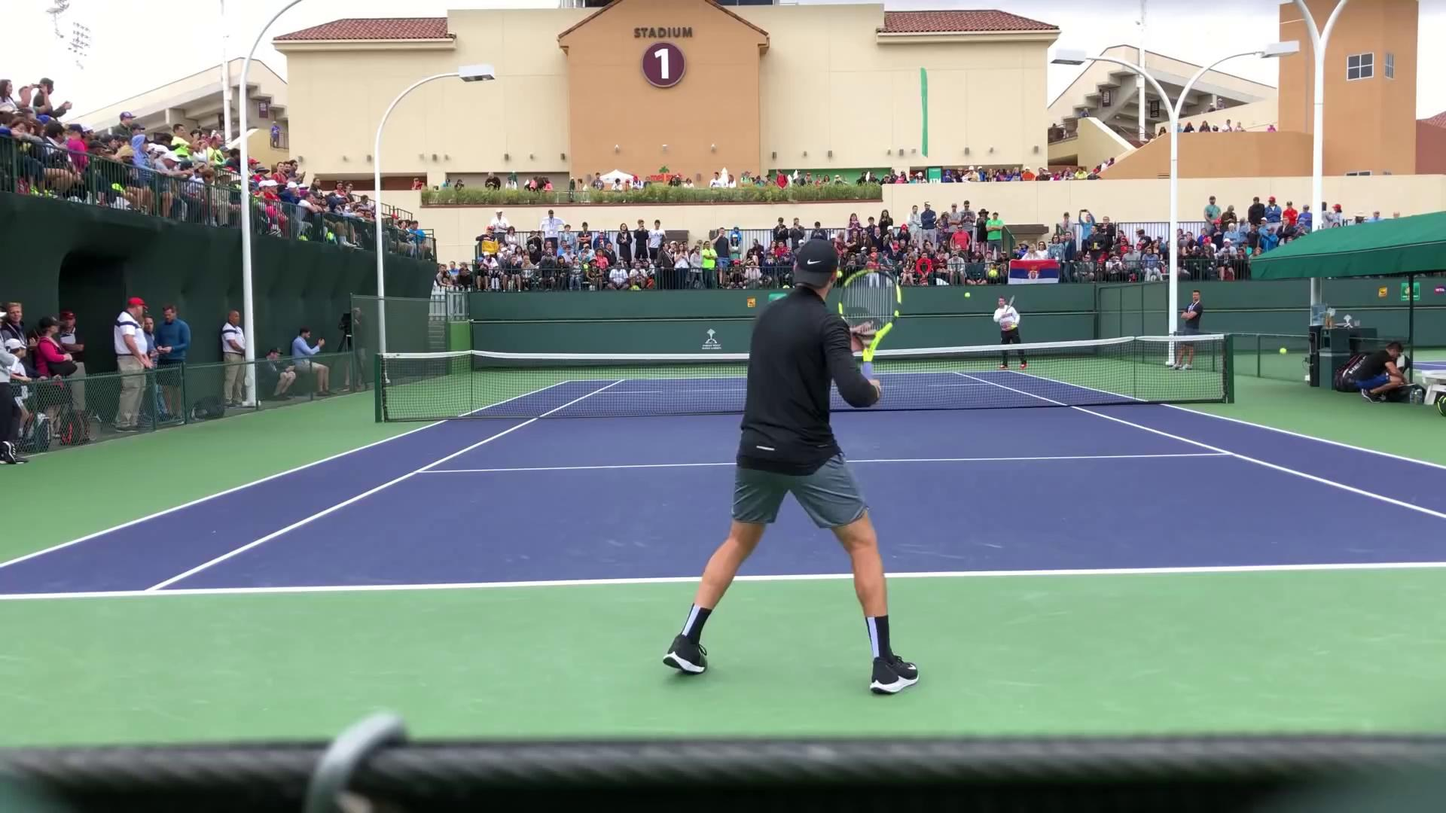ball: (963, 291, 972, 298)
